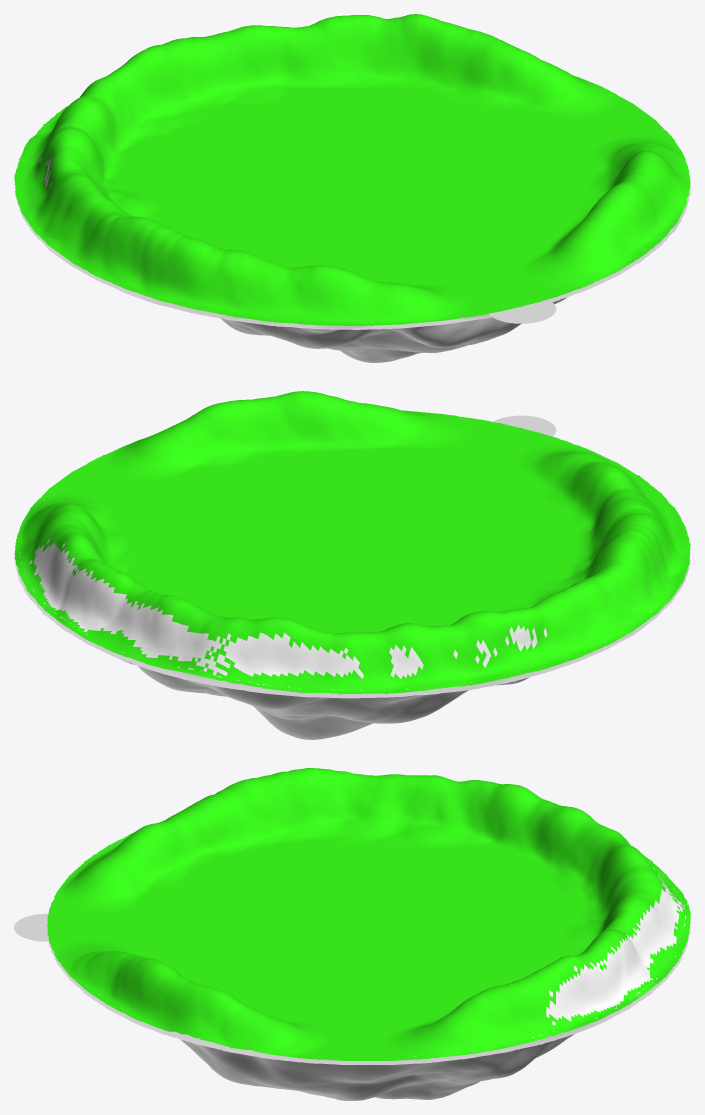
Rendered from Isla principal.fbx.
3 renders of one model, top to bottom at view 1: azimuth 30°, elevation 25°; view 2: azimuth 150°, elevation 25°; view 3: azimuth 270°, elevation 25°, orthographic. The views are drawn at different scales.
Visible parts, largest first — view 1: Grid, Grid.001, Grid.002; view 2: Grid, Grid.001, Grid.002; view 3: Grid, Grid.001, Grid.002.
Part boxes in pixels (x1,y1,x2,y2): Grid: [14, 14, 690, 325]; Grid.001: [14, 175, 690, 362]; Grid.002: [489, 299, 556, 323]; Grid: [14, 391, 690, 694]; Grid.001: [14, 543, 690, 739]; Grid.002: [493, 415, 556, 436]; Grid: [47, 768, 690, 1060]; Grid.001: [48, 935, 688, 1100]; Grid.002: [14, 913, 49, 941].
Bounding box in the file's own units: 1558 × 533 × 1644.
